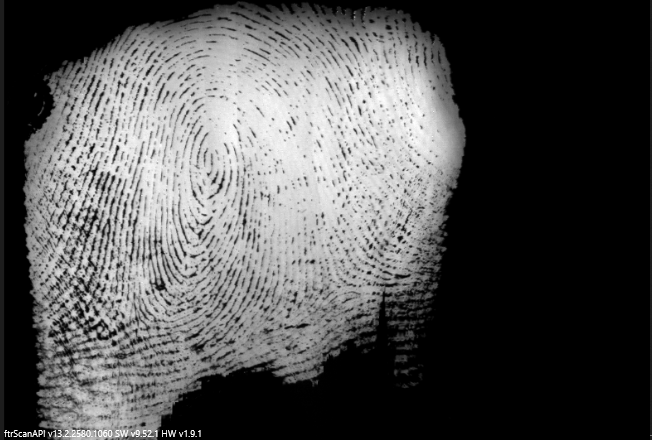nucelo: (202, 148, 222, 175)
verticilo: (317, 276, 350, 296), (122, 311, 147, 334)
